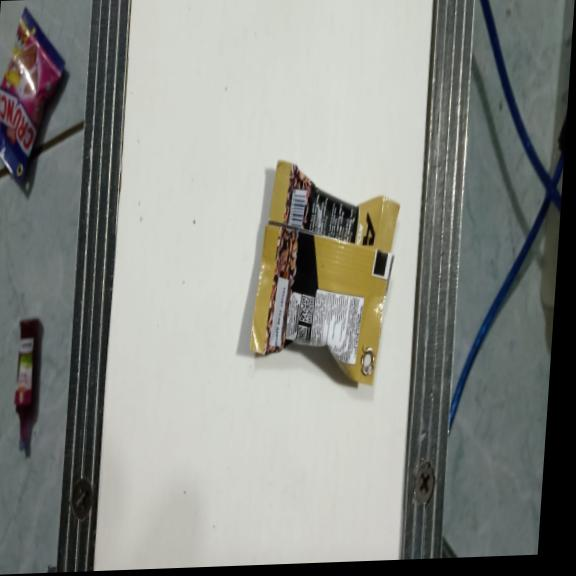Plastik: (247, 157, 406, 391), (0, 6, 68, 192), (10, 316, 44, 450)
